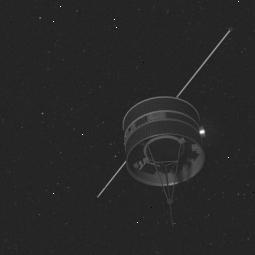double_start: (113, 85, 220, 203)
